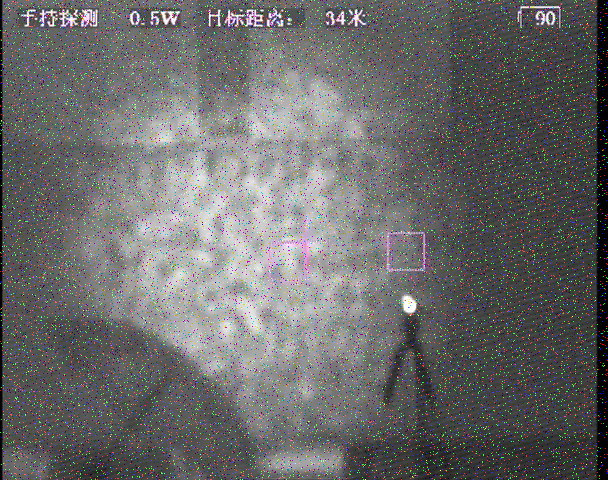my: (400, 293, 418, 314)
